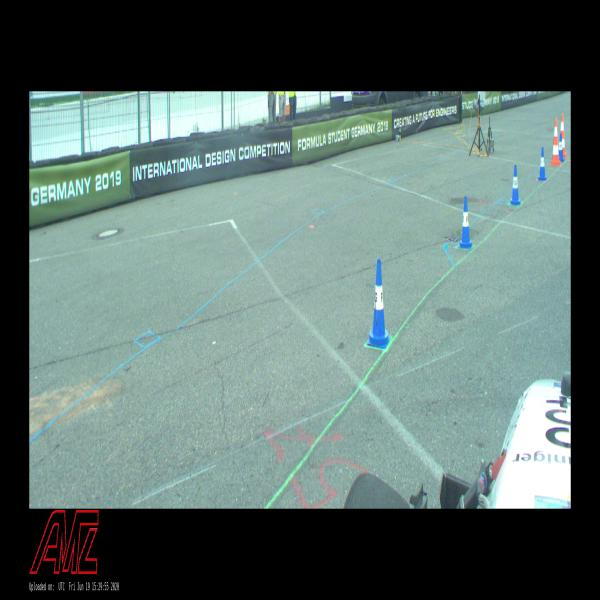blue_cone: (367, 259, 391, 350), (459, 196, 473, 249), (509, 166, 521, 204), (538, 147, 546, 180), (558, 133, 564, 161)
large_orange_cone: (551, 117, 561, 165), (561, 113, 566, 160)
